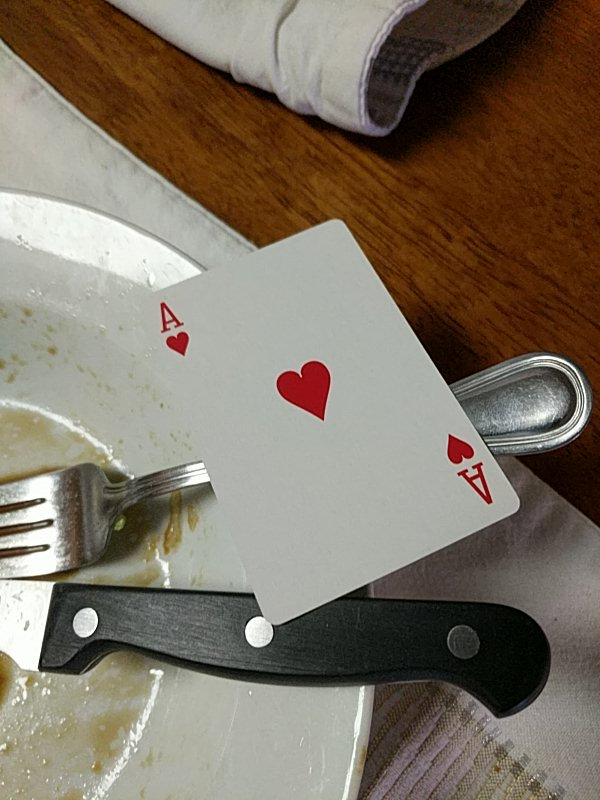Hearts: (135, 218, 524, 626)
